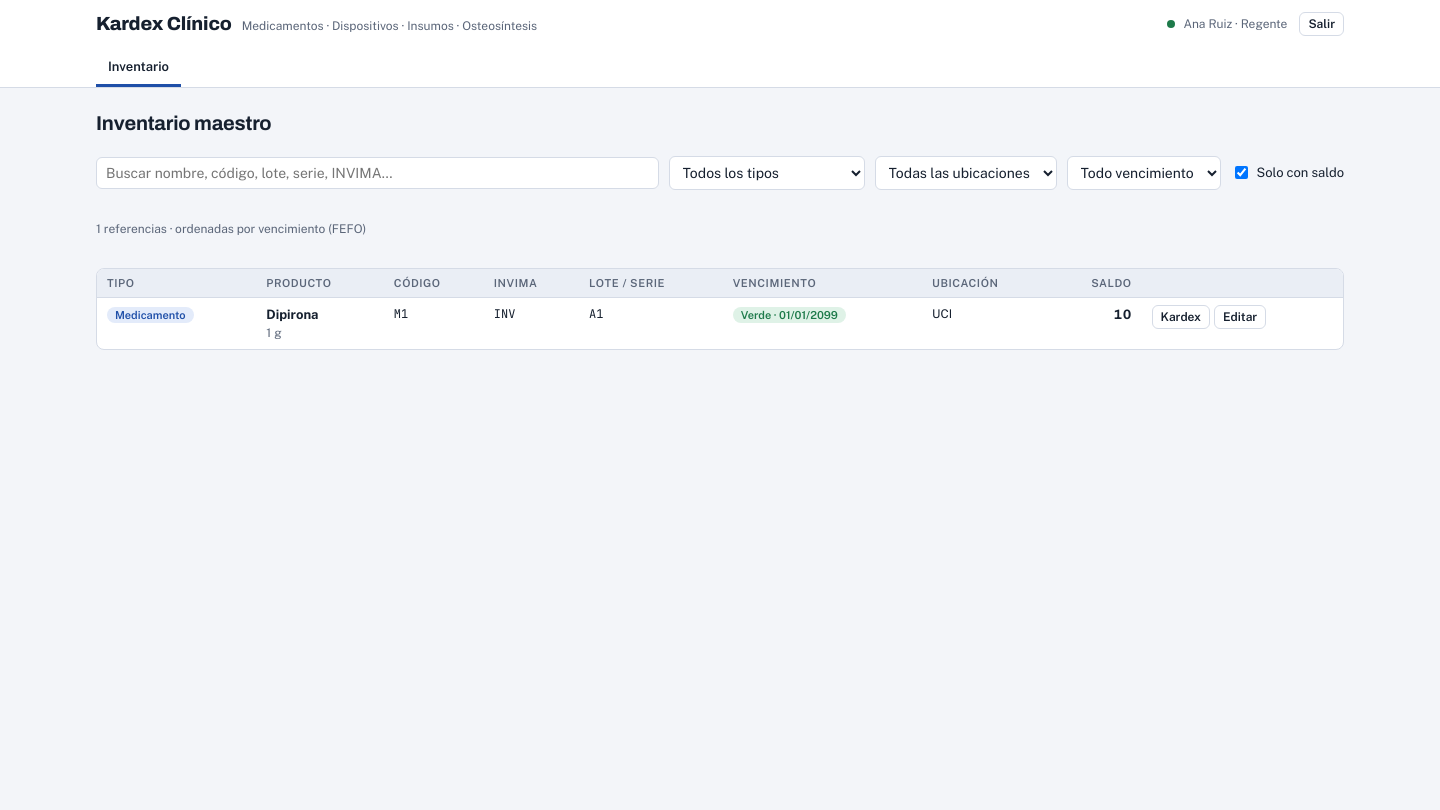
it: inventario: acciones según permisos › inactivar solo se ofrece con inventario:inactivar
Click the button "Editar".
click(1240, 316)  # box [1214, 304, 1266, 328]
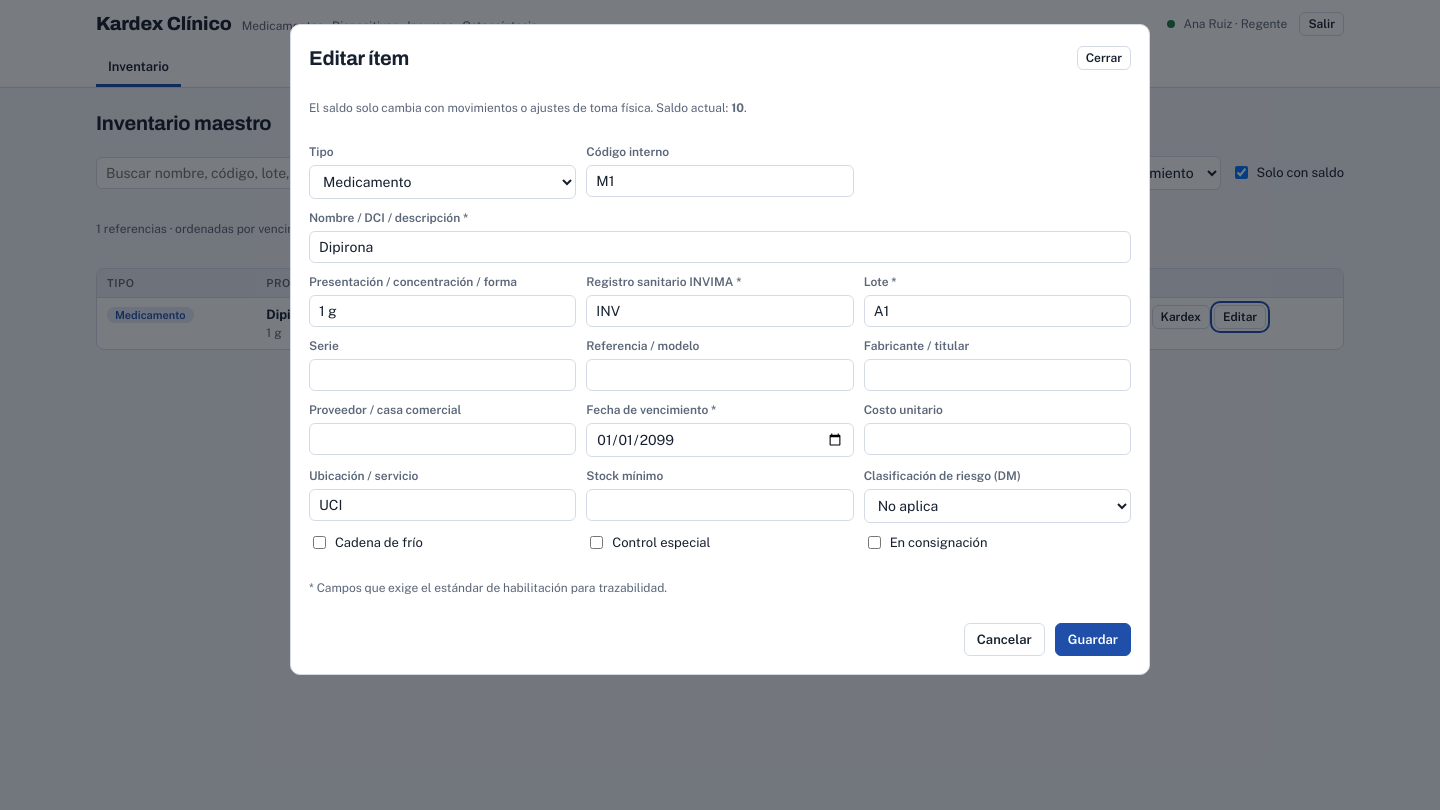
Check: the dialog "Editar ítem" is shown, box [290, 24, 1150, 674]
